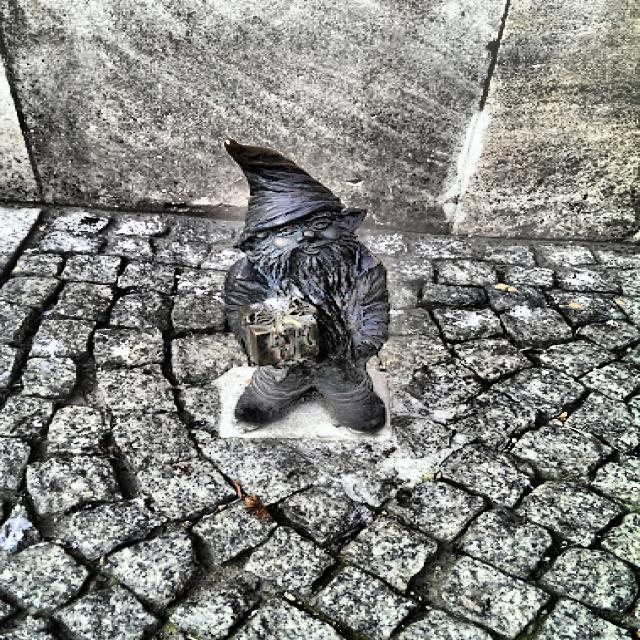Suvenirek: (225, 143, 390, 429)
